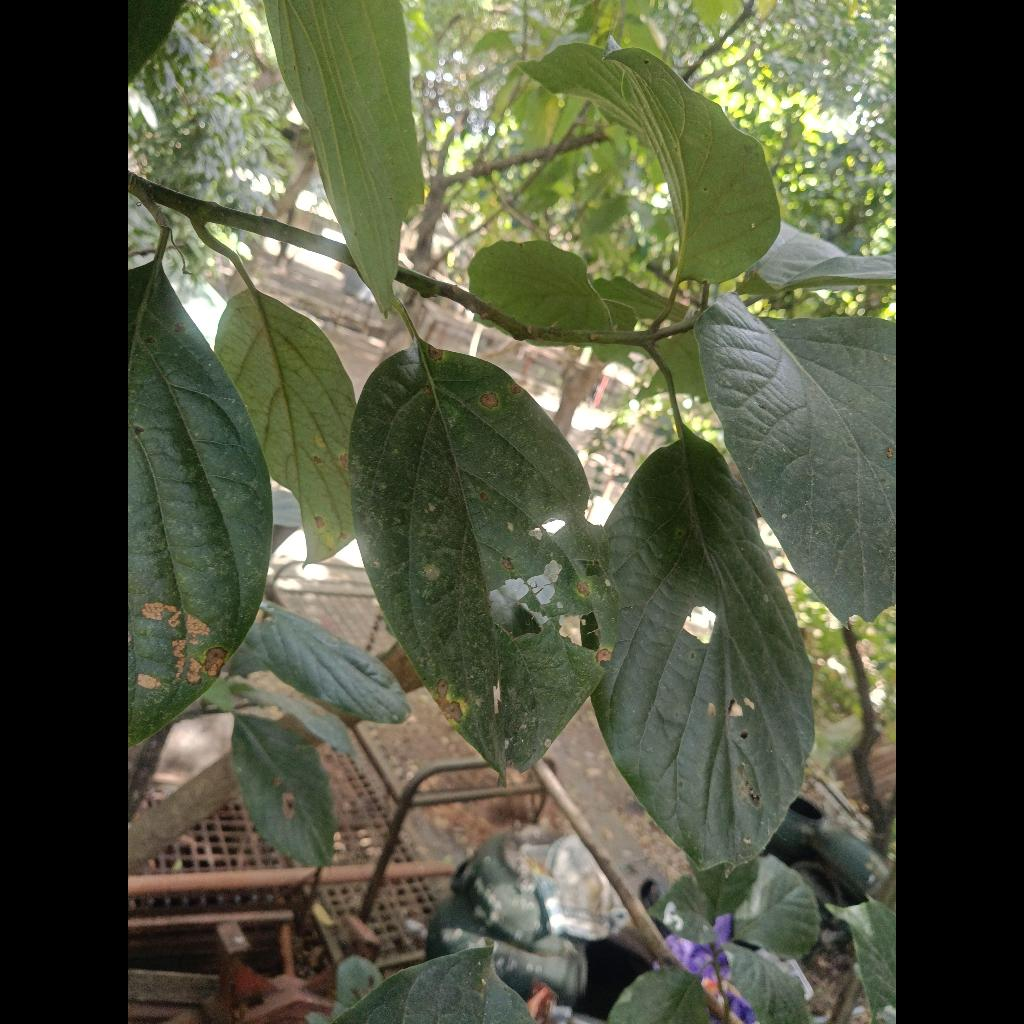Pest Infested: (349, 340, 618, 772), (592, 430, 813, 867)
